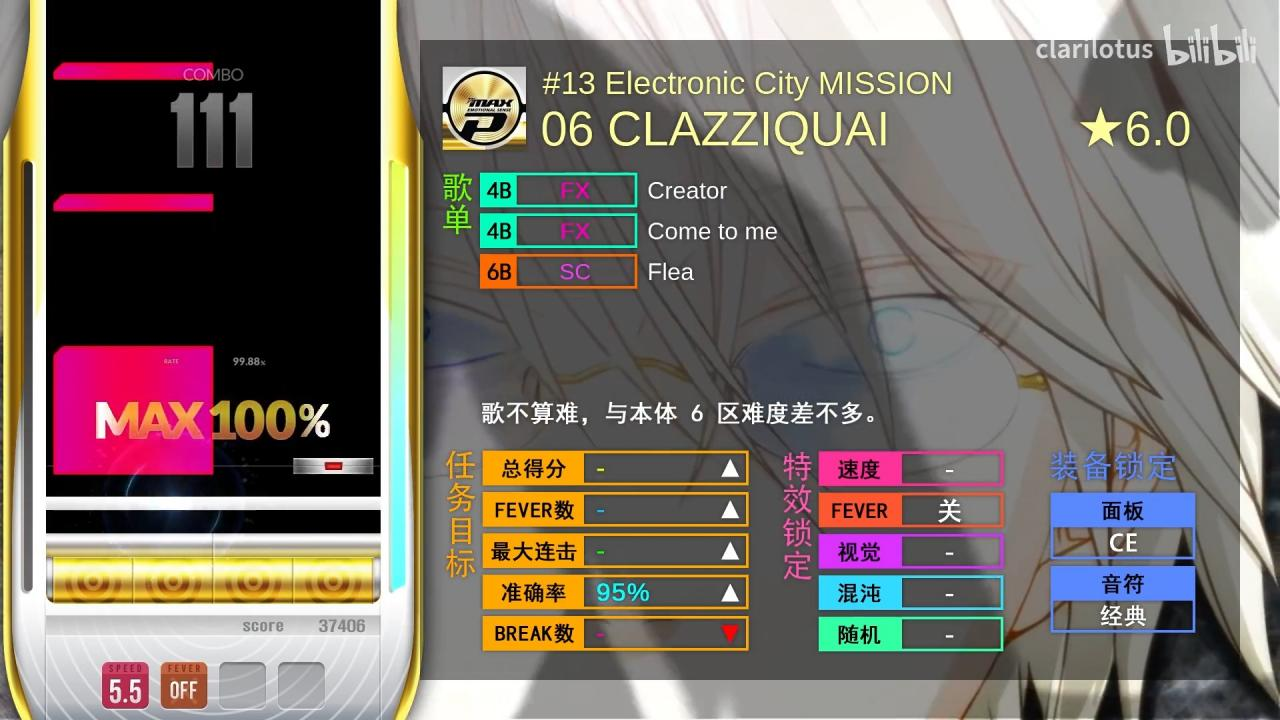note: (293, 457, 373, 475)
xend: (53, 345, 213, 362)
xnote: (54, 62, 214, 80), (54, 193, 213, 211)
xstart: (53, 458, 213, 476)
